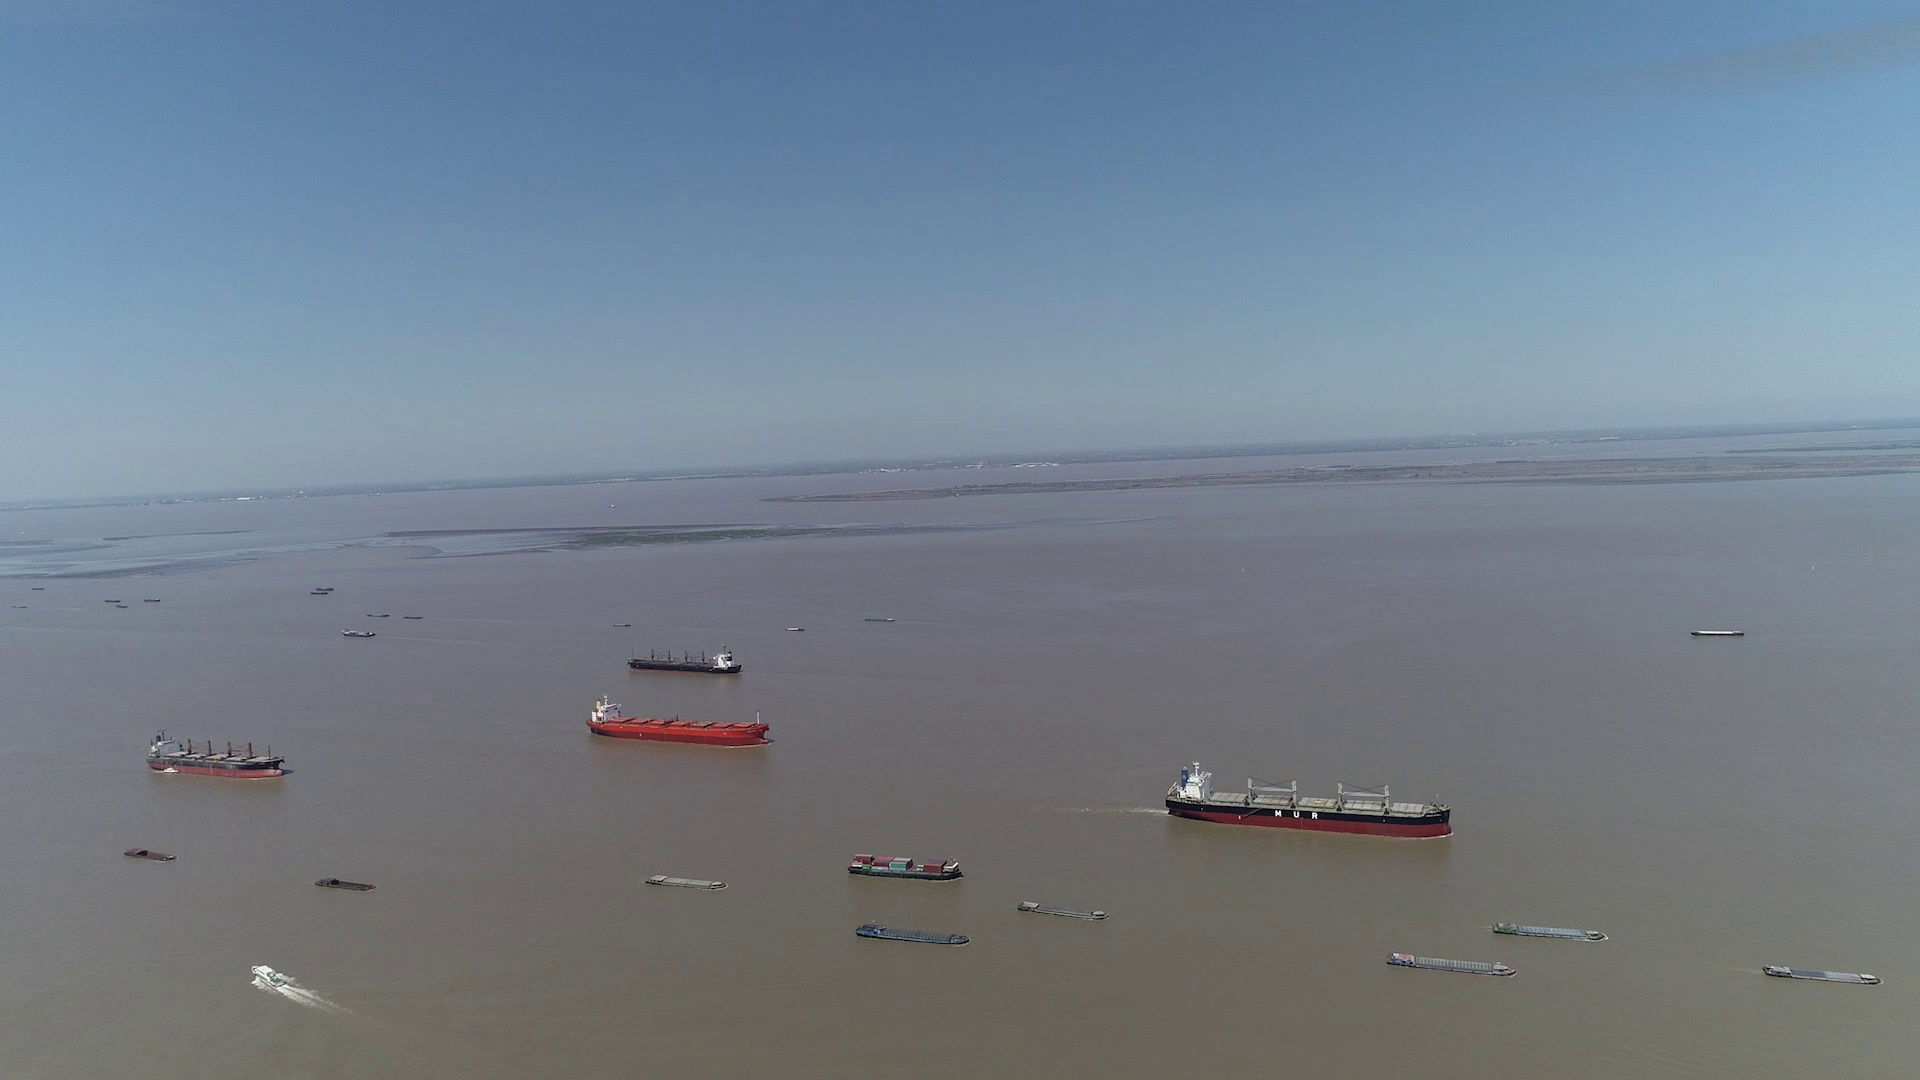ship: (1164, 764, 1453, 837), (585, 696, 769, 746), (152, 731, 282, 777), (626, 644, 742, 674), (1387, 952, 1518, 977), (848, 853, 963, 881), (1762, 963, 1880, 985), (855, 923, 968, 945), (1491, 920, 1604, 942), (1017, 899, 1108, 920), (645, 874, 731, 891), (316, 877, 376, 891), (123, 848, 177, 862), (249, 965, 284, 986), (1691, 628, 1745, 637), (342, 628, 376, 636)
